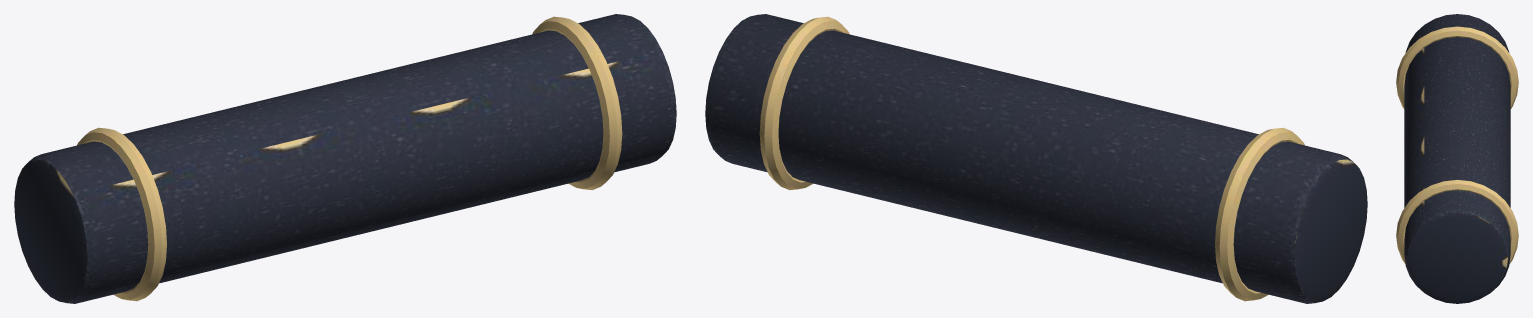
The model's file is att_baffle.glb.
The picture shows the model from 3 angles, left to right: view 1: azimuth 30°, elevation 25°; view 2: azimuth 150°, elevation 25°; view 3: azimuth 270°, elevation 25°; orthographic projection. The views are drawn at different scales.
Visible parts, largest first — view 1: can, band0.15, band0.02; view 2: can, band0.15, band0.02; view 3: can, band0.15, band0.02.
Part boxes in pixels (x1,y1,x2,y2): can: (14, 14, 676, 303); band0.15: (532, 16, 622, 190); band0.02: (77, 127, 166, 301); can: (705, 14, 1367, 303); band0.15: (759, 16, 849, 190); band0.02: (1215, 127, 1304, 301); can: (1404, 14, 1510, 303); band0.15: (1396, 179, 1518, 264); band0.02: (1396, 26, 1518, 108).
Size of the model in its own units: 0.17 by 0.044 by 0.044.
Materials: 1 (1 with a texture image).
